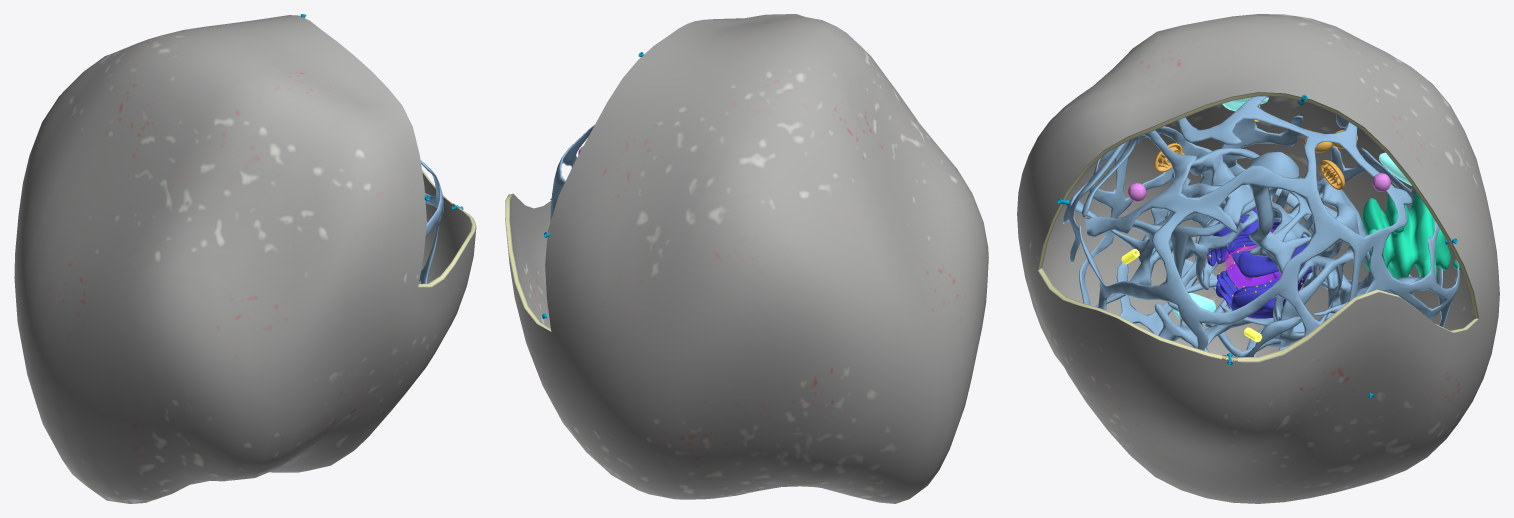
The model's file is simple_animal_cell_model.glb.
3 views of the same model, side by side, from view 1: azimuth 30°, elevation 25°; view 2: azimuth 150°, elevation 25°; view 3: azimuth 270°, elevation 25° (orthographic). The views are drawn at different scales.
Parts seen in each view (by area): view 1: cellmembrane, SmoothER; view 2: cellmembrane, SmoothER; view 3: cellmembrane, SmoothER, Golgi, RoughER, NuclearEnvelope.
Boxes of the visible parts, <box> form: cellmembrane: <box>14,15,476,503</box>; SmoothER: <box>419,160,443,283</box>; cellmembrane: <box>505,14,988,503</box>; SmoothER: <box>550,124,594,221</box>; cellmembrane: <box>1017,14,1499,503</box>; SmoothER: <box>1063,96,1459,357</box>; Golgi: <box>1362,192,1461,281</box>; RoughER: <box>1207,208,1316,318</box>; NuclearEnvelope: <box>1225,228,1280,288</box>.
Size of the model in its own units: 103 by 103 by 102.
13 materials, 2 textured.
